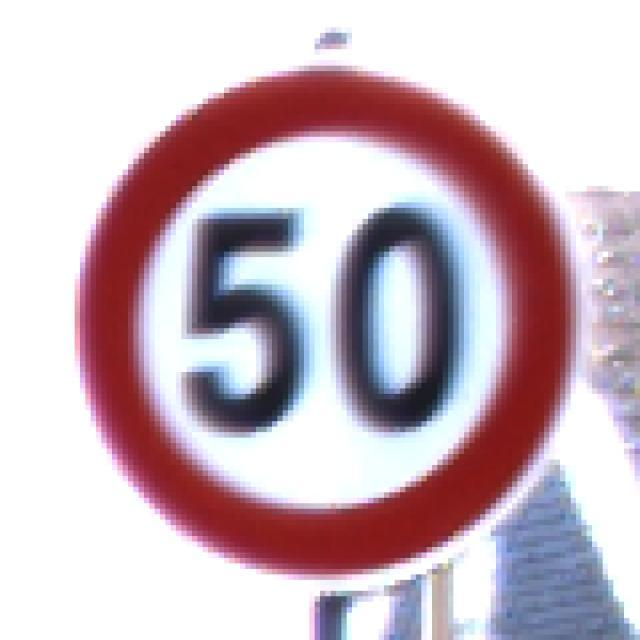speed limit 50: (68, 58, 581, 582)
